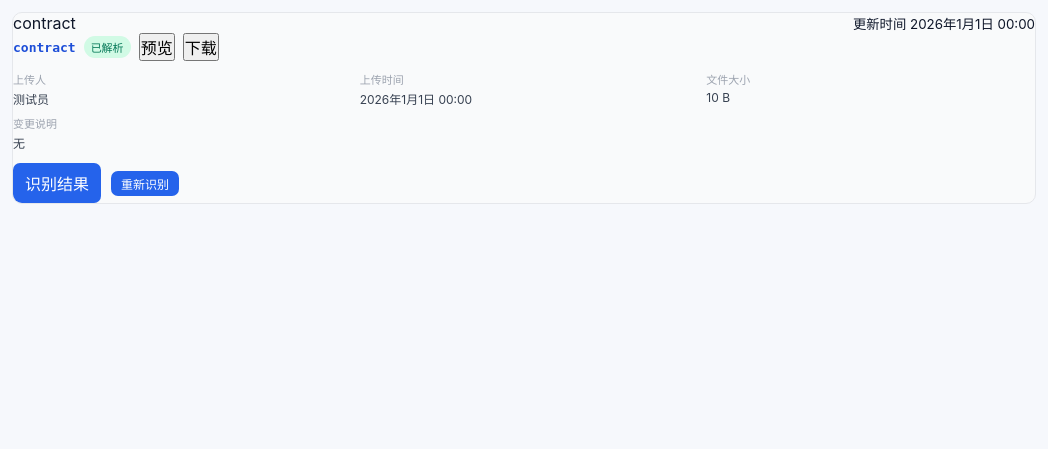
Test case: 过程文件解析展示 › 展开 contract 识别结果并提示 missing_fields
Check: the text "已解析" is shown, box [84,36,131,58]
Click the button "识别结果": (57, 183) [13,163,101,203]
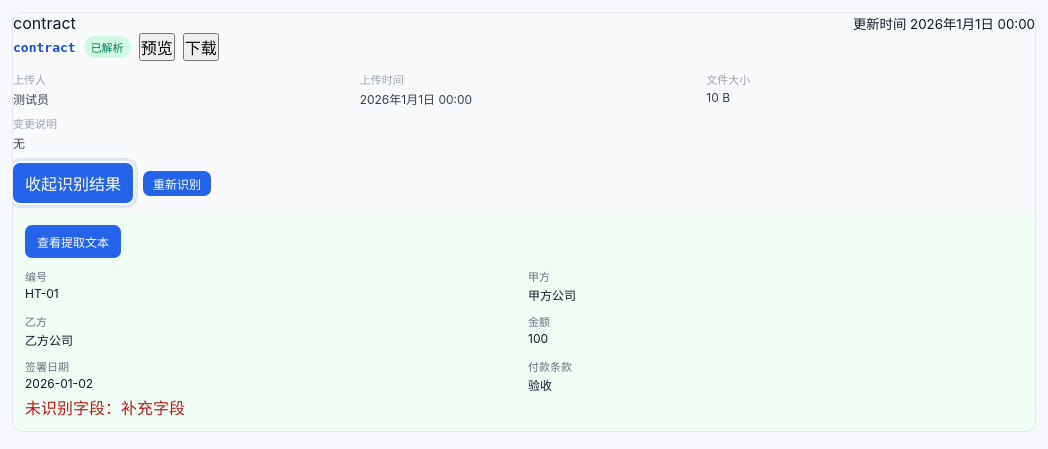
Check: the text "未识别字段：补充字段" is shown, box [25,398,185,418]
Check: the text "编号" is shown, box [25,270,47,284]
Check: the text "甲方" is shown, box [528,270,550,284]
